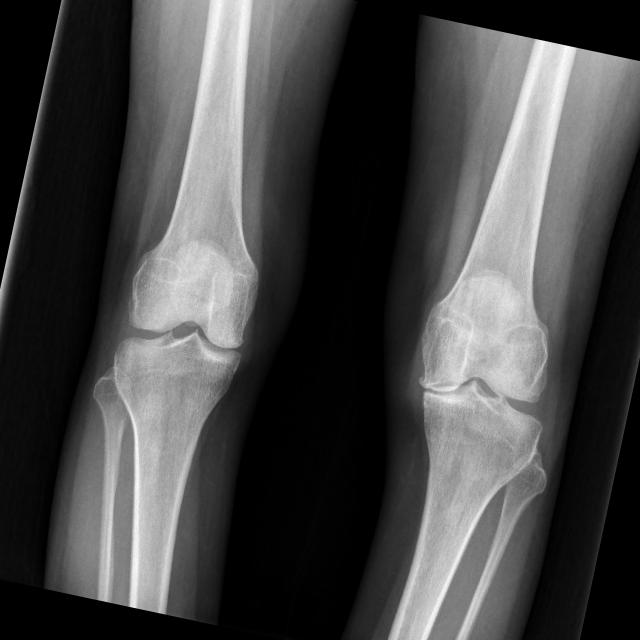Knee: (396, 314, 560, 481), (107, 252, 259, 406), (191, 266, 223, 298)
